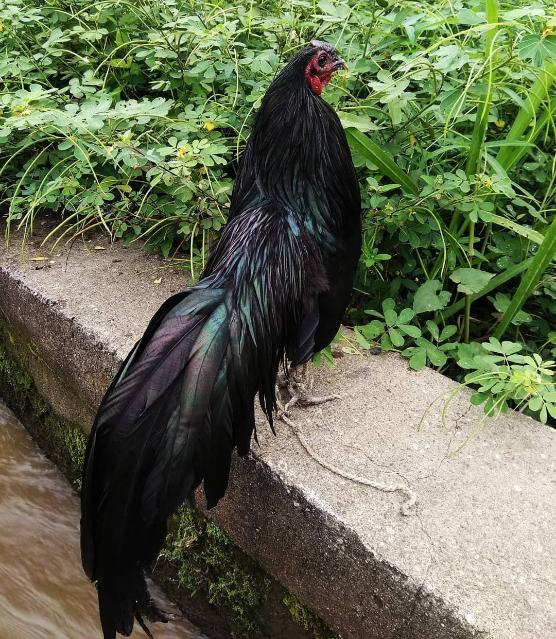Chicken: (78, 46, 361, 639)
